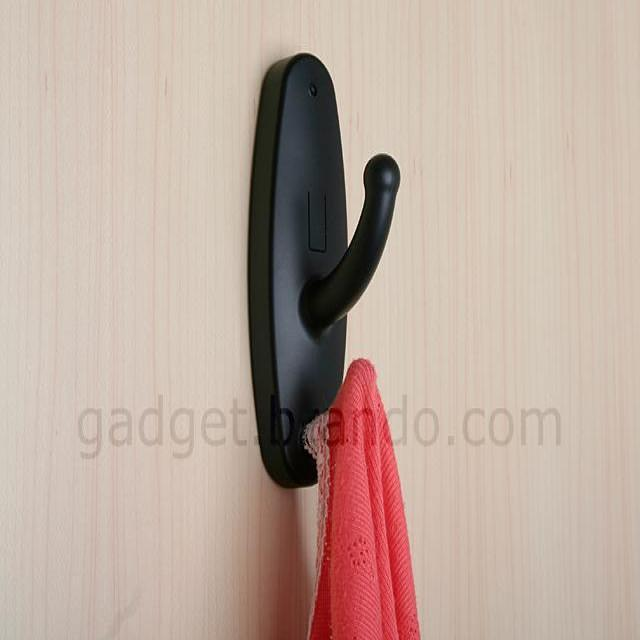hidden camera: (309, 83, 319, 98)
